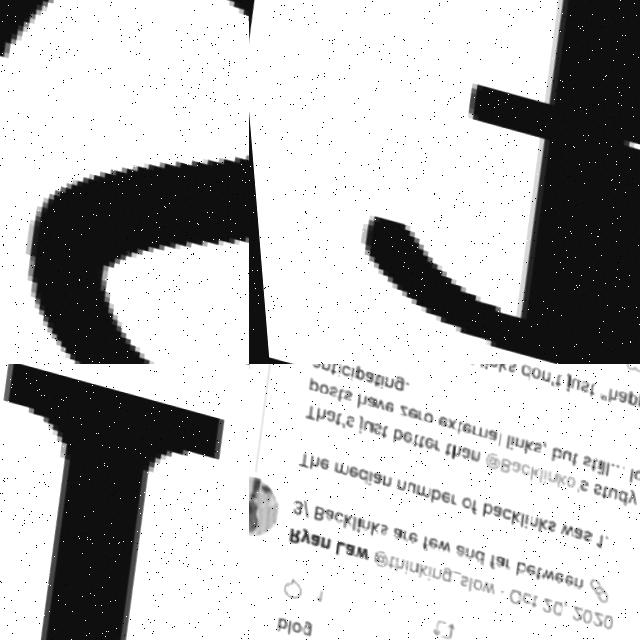0: (597, 608, 609, 626), (546, 596, 558, 612), (575, 603, 587, 619)
1: (310, 587, 320, 602), (590, 528, 600, 543)
2: (565, 599, 579, 618), (536, 592, 548, 610), (587, 606, 599, 623)
3: (266, 0, 640, 364), (287, 498, 301, 515)
R: (0, 364, 249, 640)
S: (0, 0, 249, 364)
